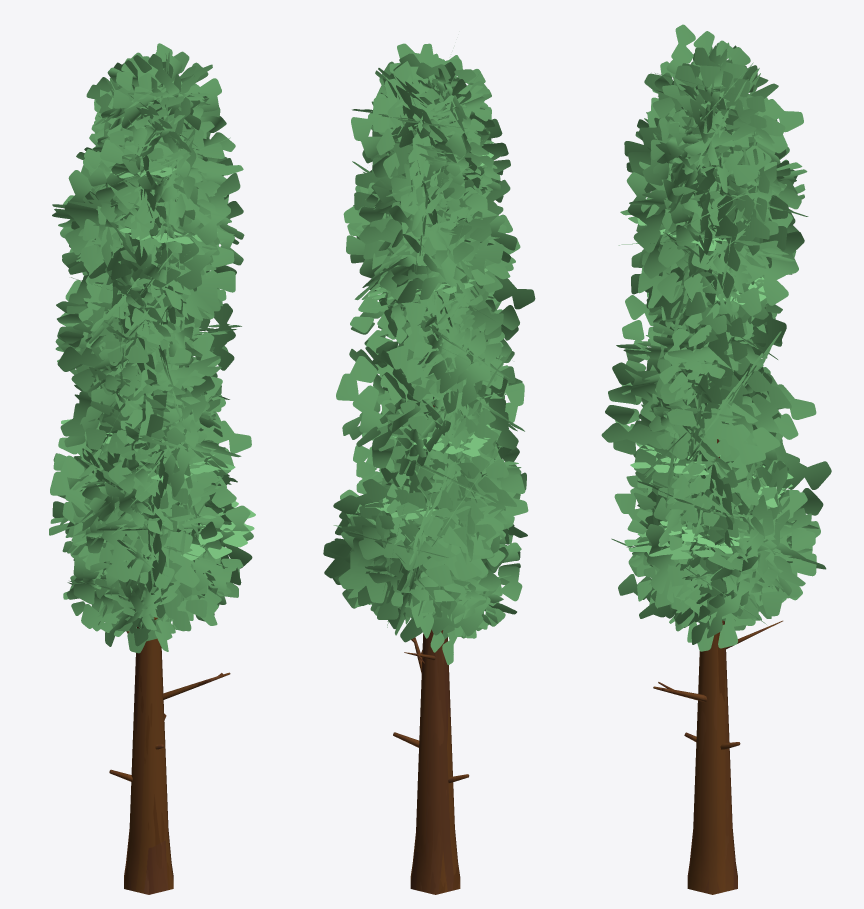
The model's file is STColumnar4.glb.
3 renders of one model, left to right at view 1: azimuth 30°, elevation 25°; view 2: azimuth 150°, elevation 25°; view 3: azimuth 270°, elevation 25°, orthographic.
Visible parts, largest first — view 1: Leaf.127; view 2: Leaf.127; view 3: Leaf.127.
Part boxes in pixels (left/top/right/bottom): Leaf.127: left=49, top=43, right=255, bottom=894; Leaf.127: left=323, top=43, right=535, bottom=894; Leaf.127: left=601, top=24, right=831, bottom=894.
Size of the model in its own units: 3.95 by 13.93 by 3.88.
Materials: 2 (2 with a texture image).
